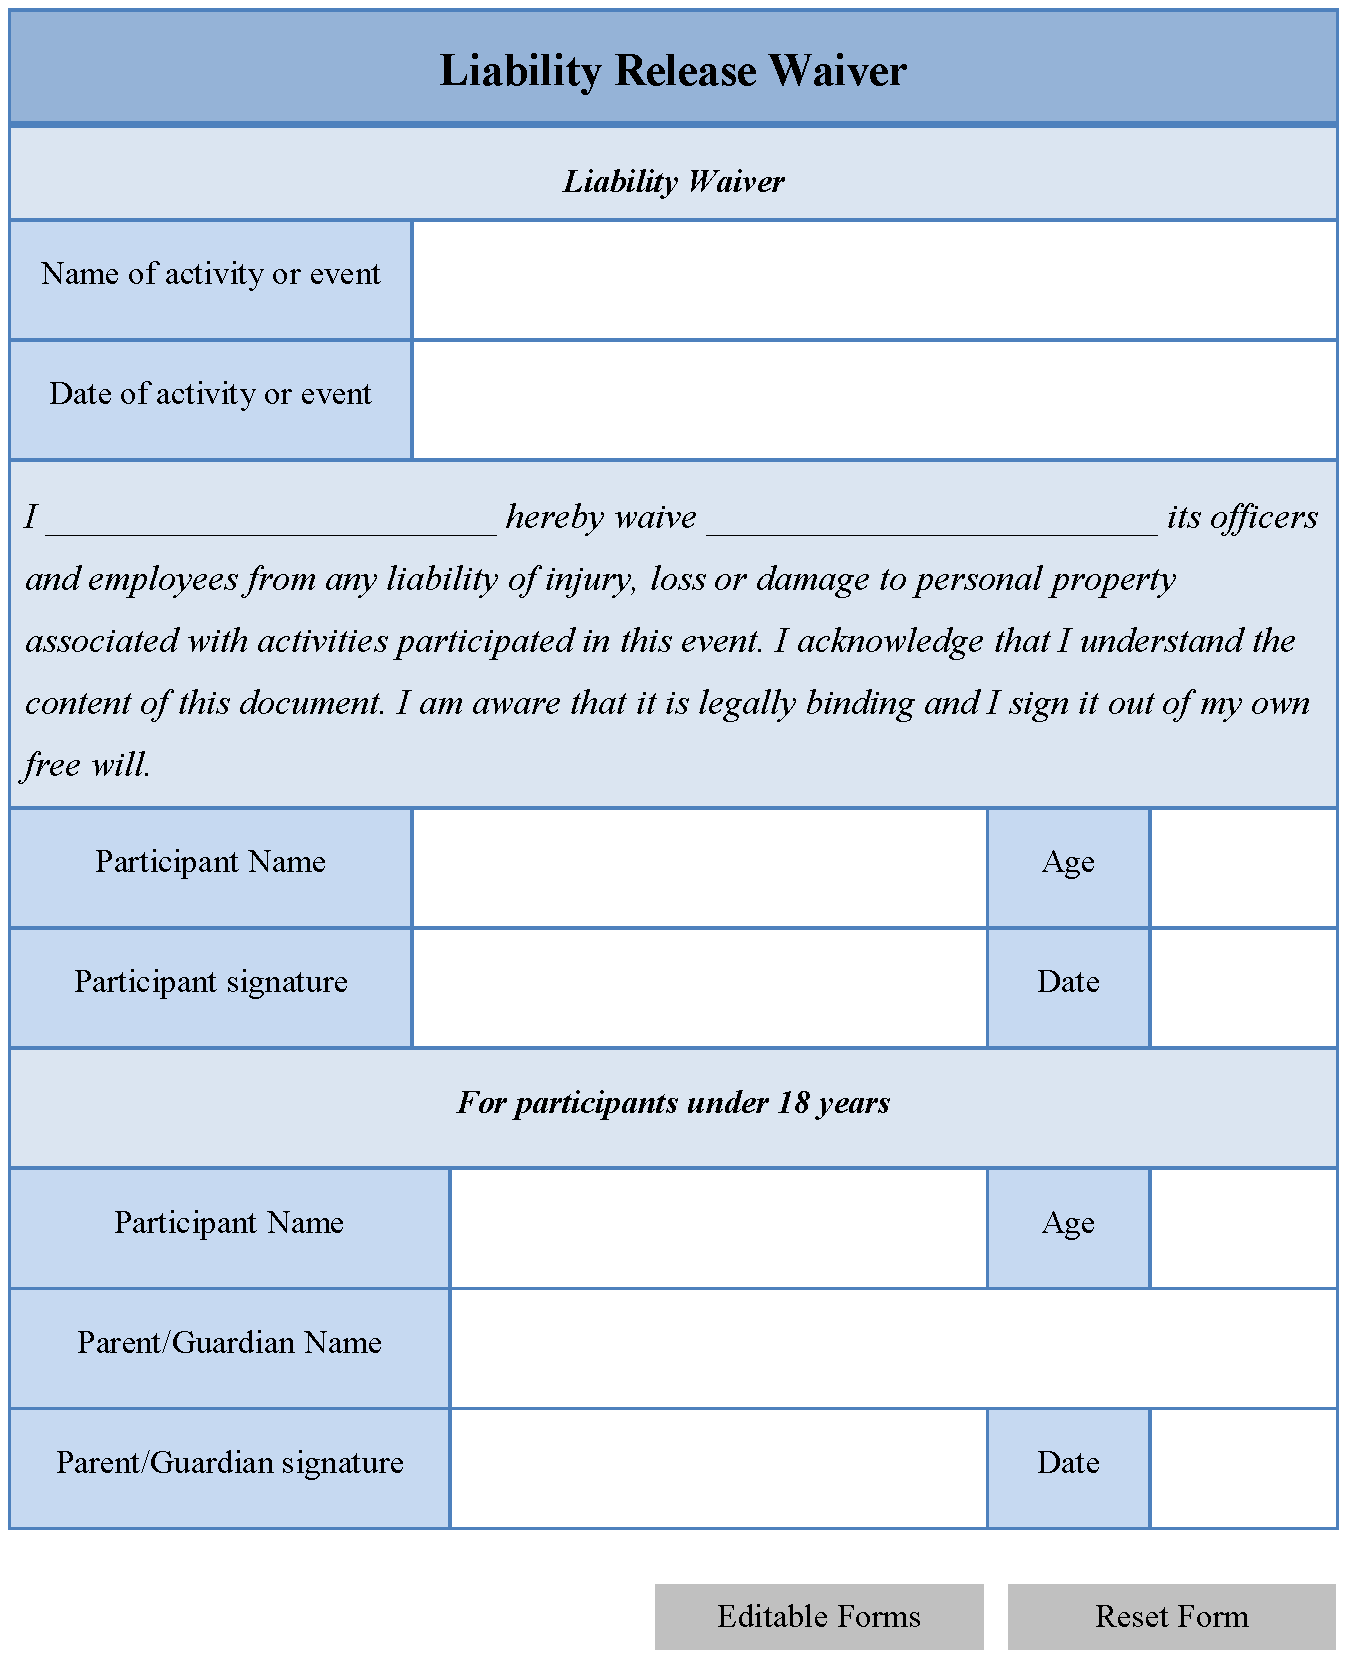textbox: (398, 203, 1350, 354), (438, 1280, 1350, 1419), (404, 333, 1344, 466), (401, 922, 1001, 1058), (437, 1153, 995, 1299), (404, 800, 999, 933), (438, 1400, 1001, 1535), (1141, 1395, 1349, 1535), (1141, 917, 1347, 1054), (1143, 1160, 1344, 1295), (1145, 799, 1347, 933)
textline: (33, 490, 508, 546), (697, 489, 1168, 541)
